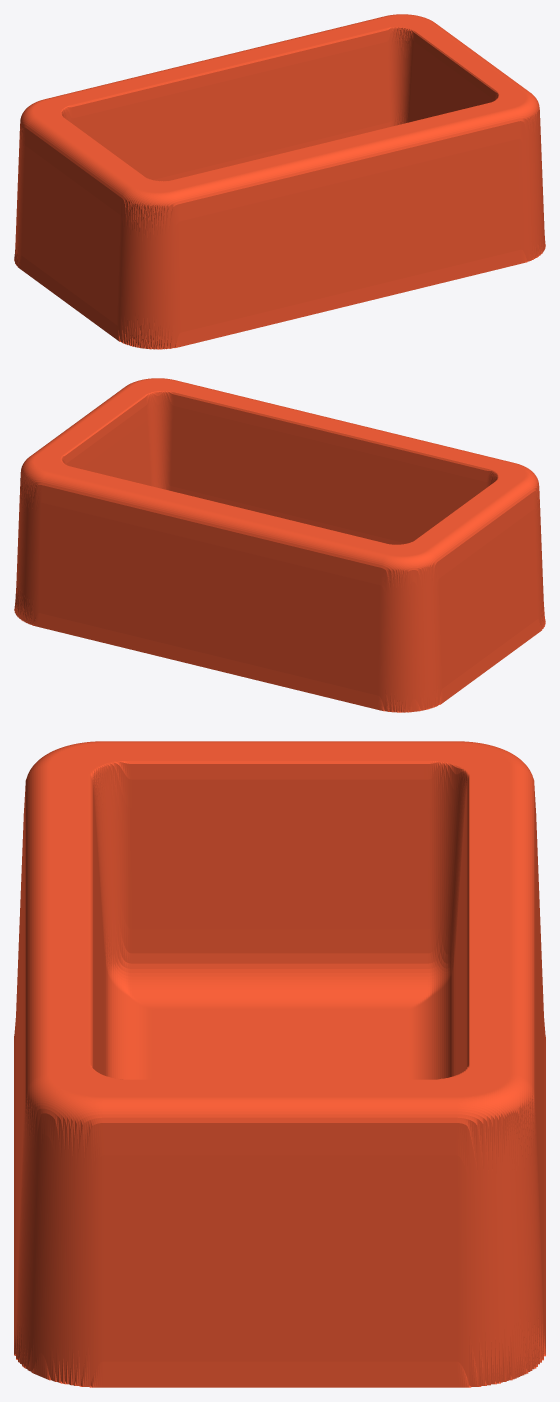
File: mold.glb
The picture shows the model from 3 angles, top to bottom: view 1: azimuth 30°, elevation 25°; view 2: azimuth 150°, elevation 25°; view 3: azimuth 270°, elevation 25°; orthographic projection. The views are drawn at different scales.
Parts seen in each view (by area): view 1: geometry_0; view 2: geometry_0; view 3: geometry_0.
Part boxes in pixels (x1,y1,x2,y2): geometry_0: (14,14,545,349); geometry_0: (14,378,545,712); geometry_0: (14,741,545,1387).
Bounding box in the file's own units: 0.0924 × 0.031 × 0.0542.
